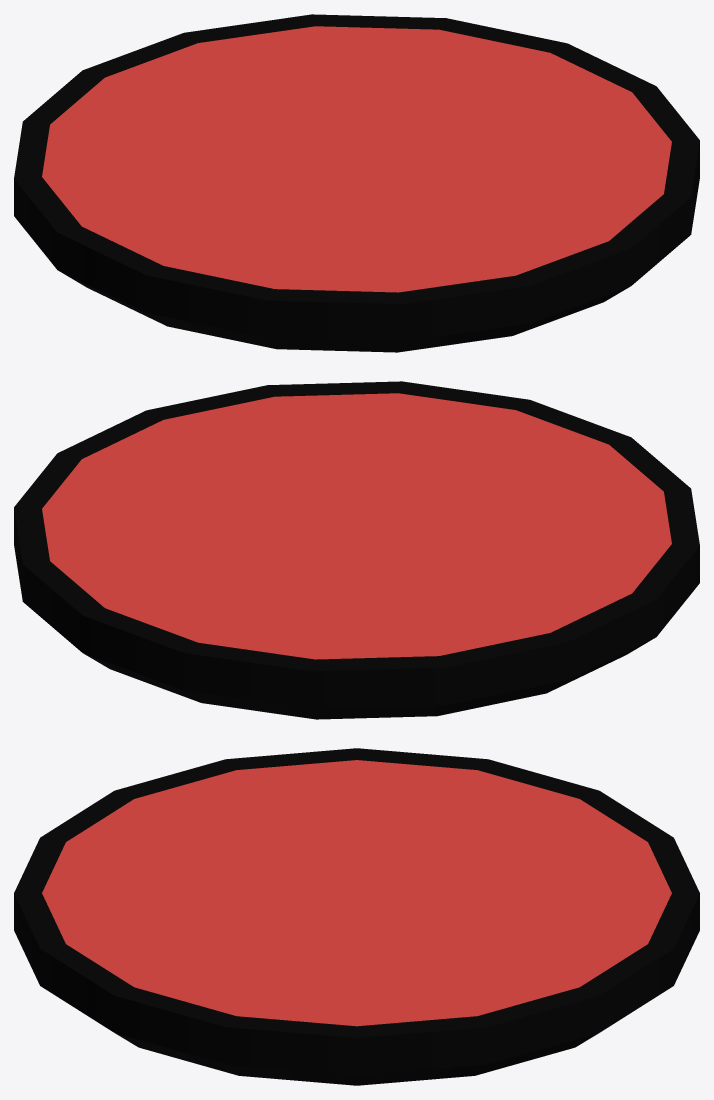
Rendered from island.glb.
The picture shows the model from 3 angles, top to bottom: view 1: azimuth 30°, elevation 25°; view 2: azimuth 150°, elevation 25°; view 3: azimuth 270°, elevation 25°; orthographic projection.
Visible parts, largest first — view 1: platform-grass-large-round; view 2: platform-grass-large-round; view 3: platform-grass-large-round.
Part boxes in pixels (bbox=[...]): platform-grass-large-round: bbox=[14, 14, 699, 352]; platform-grass-large-round: bbox=[14, 381, 699, 719]; platform-grass-large-round: bbox=[14, 748, 699, 1085].
Bounding box in the file's own units: 5 × 0.5 × 5.
Materials: 1 (1 with a texture image).
